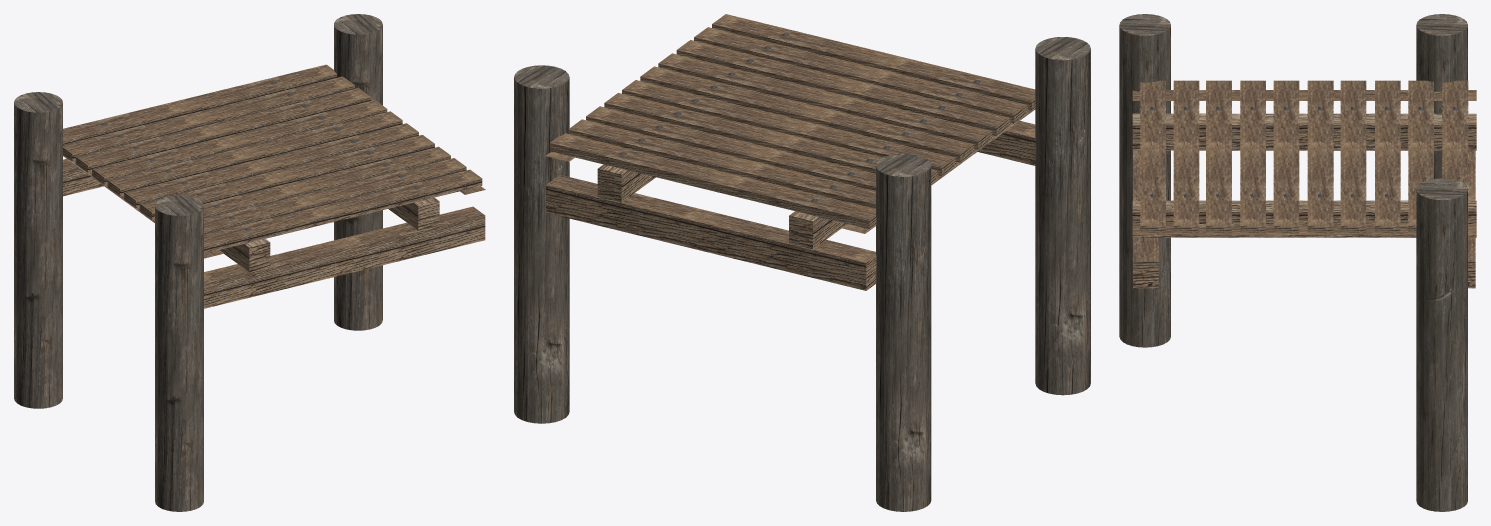
File: Jeroooofbx (1).fbx
3 renders of one model, left to right at view 1: azimuth 30°, elevation 25°; view 2: azimuth 150°, elevation 25°; view 3: azimuth 270°, elevation 25°, orthographic. The views are drawn at different scales.
Parts seen in each view (by area): view 1: Piso Madera :D, Poste, Poste.003, Piso Madera :D.002; view 2: Piso Madera :D, Poste, Poste.003, Piso Madera :D.002; view 3: Piso Madera :D, Poste, Poste.003, Piso Madera :D.002.
Boxes of the visible parts, x1=… form: Piso Madera :D: x1=63, y1=64, x2=485, y2=272; Poste: x1=14, y1=14, x2=382, y2=408; Poste.003: x1=155, y1=195, x2=203, y2=511; Piso Madera :D.002: x1=204, y1=206, x2=485, y2=308; Piso Madera :D: x1=546, y1=14, x2=1035, y2=249; Poste: x1=514, y1=65, x2=931, y2=511; Poste.003: x1=1035, y1=37, x2=1090, y2=395; Piso Madera :D.002: x1=977, y1=121, x2=1035, y2=165; Piso Madera :D: x1=1132, y1=80, x2=1476, y2=237; Poste: x1=1416, y1=14, x2=1475, y2=511; Poste.003: x1=1119, y1=14, x2=1170, y2=347; Piso Madera :D.002: x1=1133, y1=150, x2=1158, y2=288.
Size of the model in its own units: 512 by 400 by 415.
Materials: 3 (2 with a texture image).
